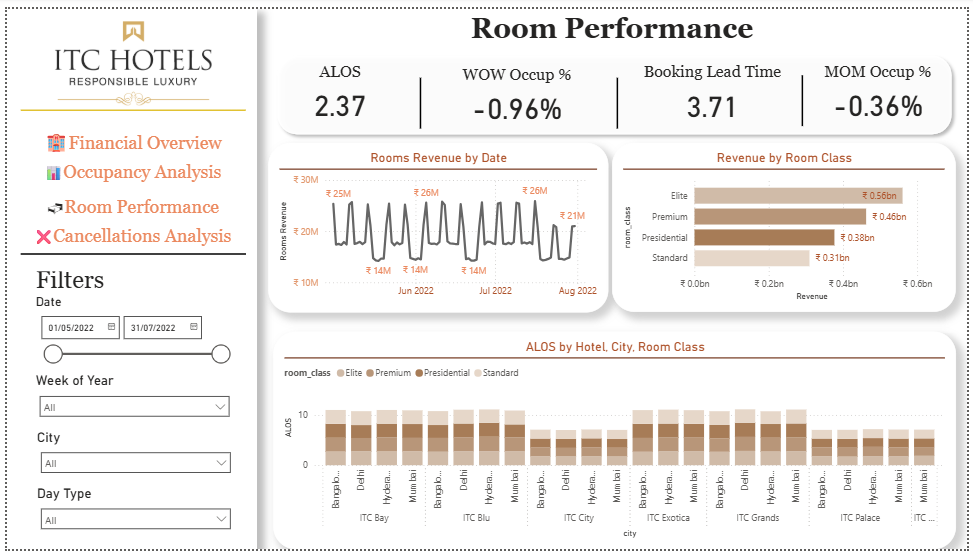

What the dashboard file says about the page in this screenshot:
{"tool":"powerbi","page":{"name":"Room Performance","canvas":[1280,720],"ordinal":2},"visuals":[{"type":"shape","title":"panel_Sidebar","box":[0,0,333.3,720],"z":0},{"type":"textbox","box":[333.3,0,946.7,56.7],"z":1000},{"type":"shape","box":[351.8,53.3,916.6,122.6],"z":2000},{"type":"textbox","title":"txt_Cancellations","box":[11.8,283.6,311.8,41.8],"z":3000},{"type":"shape","box":[540.6,92,22.6,67.8],"z":4000},{"type":"textbox","title":"txt_RoomPerf","box":[11.8,241.8,311.8,41.8],"z":5000},{"type":"card","title":"ALOS","fields":{"Values":["ITC.ALOS"]},"box":[366.2,71.2,155,85],"z":6000},{"type":"textbox","title":"txt_Occupancy","box":[11.8,198.2,311.8,43.6],"z":7000},{"type":"card","title":"WOW Occup %","fields":{"Values":["ITC.WOW Occupancy %"]},"box":[574.5,74.2,209.8,85.5],"z":8000},{"type":"textbox","title":"txt_Financial","box":[12,157,312,42],"z":9000},{"type":"card","title":"MOM Occup  %","fields":{"Values":["ITC.MOM Occupancy %"]},"box":[1071.2,71.2,178.8,85],"z":10000},{"type":"actionButton","title":"btn_Cancellations","box":[15,285,313.3,41.7],"z":11000},{"type":"actionButton","title":"btn_RoomPerf","box":[15,243.3,313.3,40],"z":12000},{"type":"card","title":"Booking Lead Time","fields":{"Values":["ITC.Booking Lead Time"]},"box":[831.1,71,217.9,85.5],"z":13000},{"type":"actionButton","title":"btn_Occupancy","box":[11.7,198.3,316.7,45],"z":14000},{"type":"shape","box":[803.6,92,21,67.8],"z":15000},{"type":"actionButton","title":"btn_Financial","box":[11.7,156.7,311.7,40],"z":16000},{"type":"shape","box":[965,292.1,22.6,67.8],"z":17000},{"type":"shape","box":[1050.5,88.8,21,67.8],"z":18000},{"type":"lineChart","title":"Rooms Revenue by Date","fields":{"Y":["key_measures.Revenue"],"Category":["dim_date.date.Variation.Date Hierarchy.Year","dim_date.date.Variation.Date Hierarchy.Quarter","dim_date.date.Variation.Date Hierarchy.Month","dim_date.date.Variation.Date Hierarchy.Day"]},"box":[348.3,178.3,453.3,226.7],"z":19000},{"type":"barChart","title":"Revenue by Room Class","fields":{"Category":["dim_rooms.room_class"],"Y":["key_measures.Revenue"]},"box":[806.9,179.1,458.3,225.9],"z":20000},{"type":"columnChart","title":"ALOS by Hotel, City, Room Class","fields":{"Category":["dim_hotels.property_name","dim_hotels.city"],"Y":["ITC.ALOS"],"Series":["dim_rooms.room_class"]},"box":[355,429.3,910.2,290.5],"z":21000},{"type":"shape","box":[18.3,123.3,300,23.3],"z":24000},{"type":"shape","box":[18.3,306.7,300,40],"z":26000},{"type":"slicer","title":"Date","fields":{"Values":["dim_date.date"]},"box":[33.3,380,273.3,105],"z":26001},{"type":"textbox","box":[33.3,345,173.3,46.7],"z":26002},{"type":"slicer","title":"Week of Year","fields":{"Values":["dim_date.week no"]},"box":[33.3,485,273.3,75],"z":26003},{"type":"slicer","title":"City","fields":{"Values":["dim_hotels.city"]},"box":[35,560,273.3,75],"z":26004},{"type":"slicer","title":"Day Type","fields":{"Values":["dim_date.day type"]},"box":[35,635,273.3,75],"z":26005},{"type":"image","box":[18.3,11.7,300,121.7],"z":26006}]}

Visuals, with their boxes in screenshot pixels (x1, y1, x2, y2), scaled from the page's 1280x720 canvas onto the 973x551 screenshot:
"panel_Sidebar" shape: select_region(0, 0, 253, 550)
textbox: select_region(253, 0, 972, 43)
shape: select_region(267, 41, 964, 135)
"txt_Cancellations" textbox: select_region(9, 217, 246, 249)
shape: select_region(411, 70, 428, 122)
"txt_RoomPerf" textbox: select_region(9, 185, 246, 217)
"ALOS" card: select_region(278, 54, 396, 120)
"txt_Occupancy" textbox: select_region(9, 152, 246, 185)
"WOW Occup %" card: select_region(437, 57, 596, 122)
"txt_Financial" textbox: select_region(9, 120, 246, 152)
"MOM Occup  %" card: select_region(814, 54, 950, 120)
"btn_Cancellations" actionButton: select_region(11, 218, 250, 250)
"btn_RoomPerf" actionButton: select_region(11, 186, 250, 217)
"Booking Lead Time" card: select_region(632, 54, 797, 120)
"btn_Occupancy" actionButton: select_region(9, 152, 250, 186)
shape: select_region(611, 70, 627, 122)
"btn_Financial" actionButton: select_region(9, 120, 246, 151)
shape: select_region(734, 224, 751, 275)
shape: select_region(799, 68, 815, 120)
"Rooms Revenue by Date" lineChart: select_region(265, 136, 609, 310)
"Revenue by Room Class" barChart: select_region(613, 137, 962, 310)
"ALOS by Hotel, City, Room Class" columnChart: select_region(270, 329, 962, 550)
shape: select_region(14, 94, 242, 112)
shape: select_region(14, 235, 242, 265)
"Date" slicer: select_region(25, 291, 233, 371)
textbox: select_region(25, 264, 157, 300)
"Week of Year" slicer: select_region(25, 371, 233, 429)
"City" slicer: select_region(27, 429, 234, 486)
"Day Type" slicer: select_region(27, 486, 234, 543)
image: select_region(14, 9, 242, 102)
